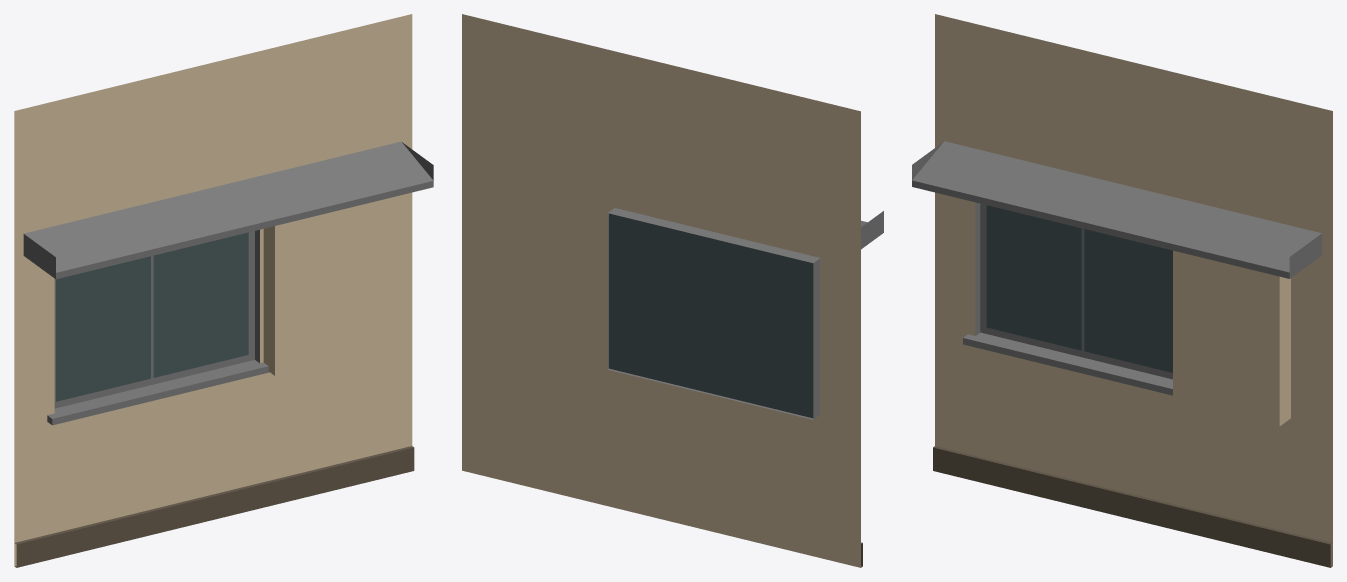
File: top-w1.fbx
3 renders of one model, left to right at view 1: azimuth 30°, elevation 25°; view 2: azimuth 150°, elevation 25°; view 3: azimuth 330°, elevation 25°, orthographic.
Parts seen in each view (by area): view 1: a2000/400/top-w1; view 2: a2000/400/top-w1; view 3: a2000/400/top-w1.
Part boxes in pixels (bbox=[...]): a2000/400/top-w1: bbox=[14, 14, 433, 567]; a2000/400/top-w1: bbox=[462, 14, 883, 567]; a2000/400/top-w1: bbox=[912, 14, 1332, 567].
Bounding box in the file's own units: 3.2 × 3.5 × 0.55.
